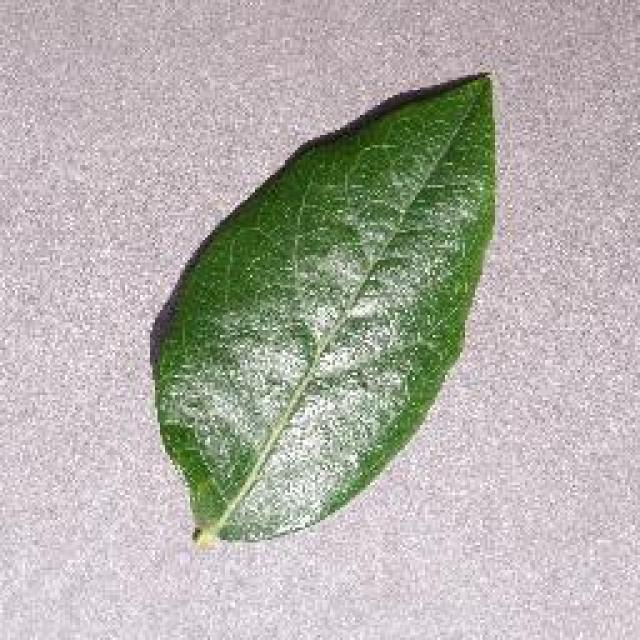Blu_healthy: (188, 152, 468, 482)
